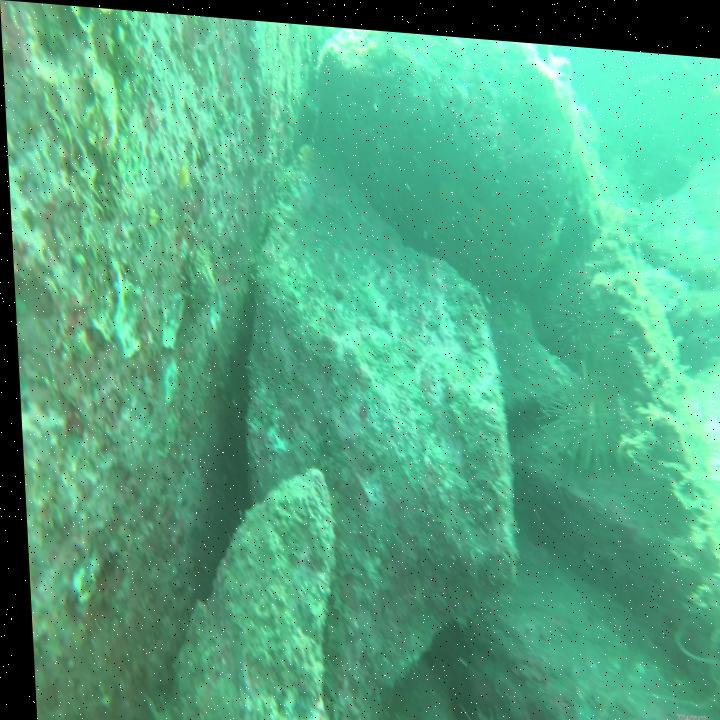echinus: (531, 348, 624, 469), (542, 245, 614, 365)
